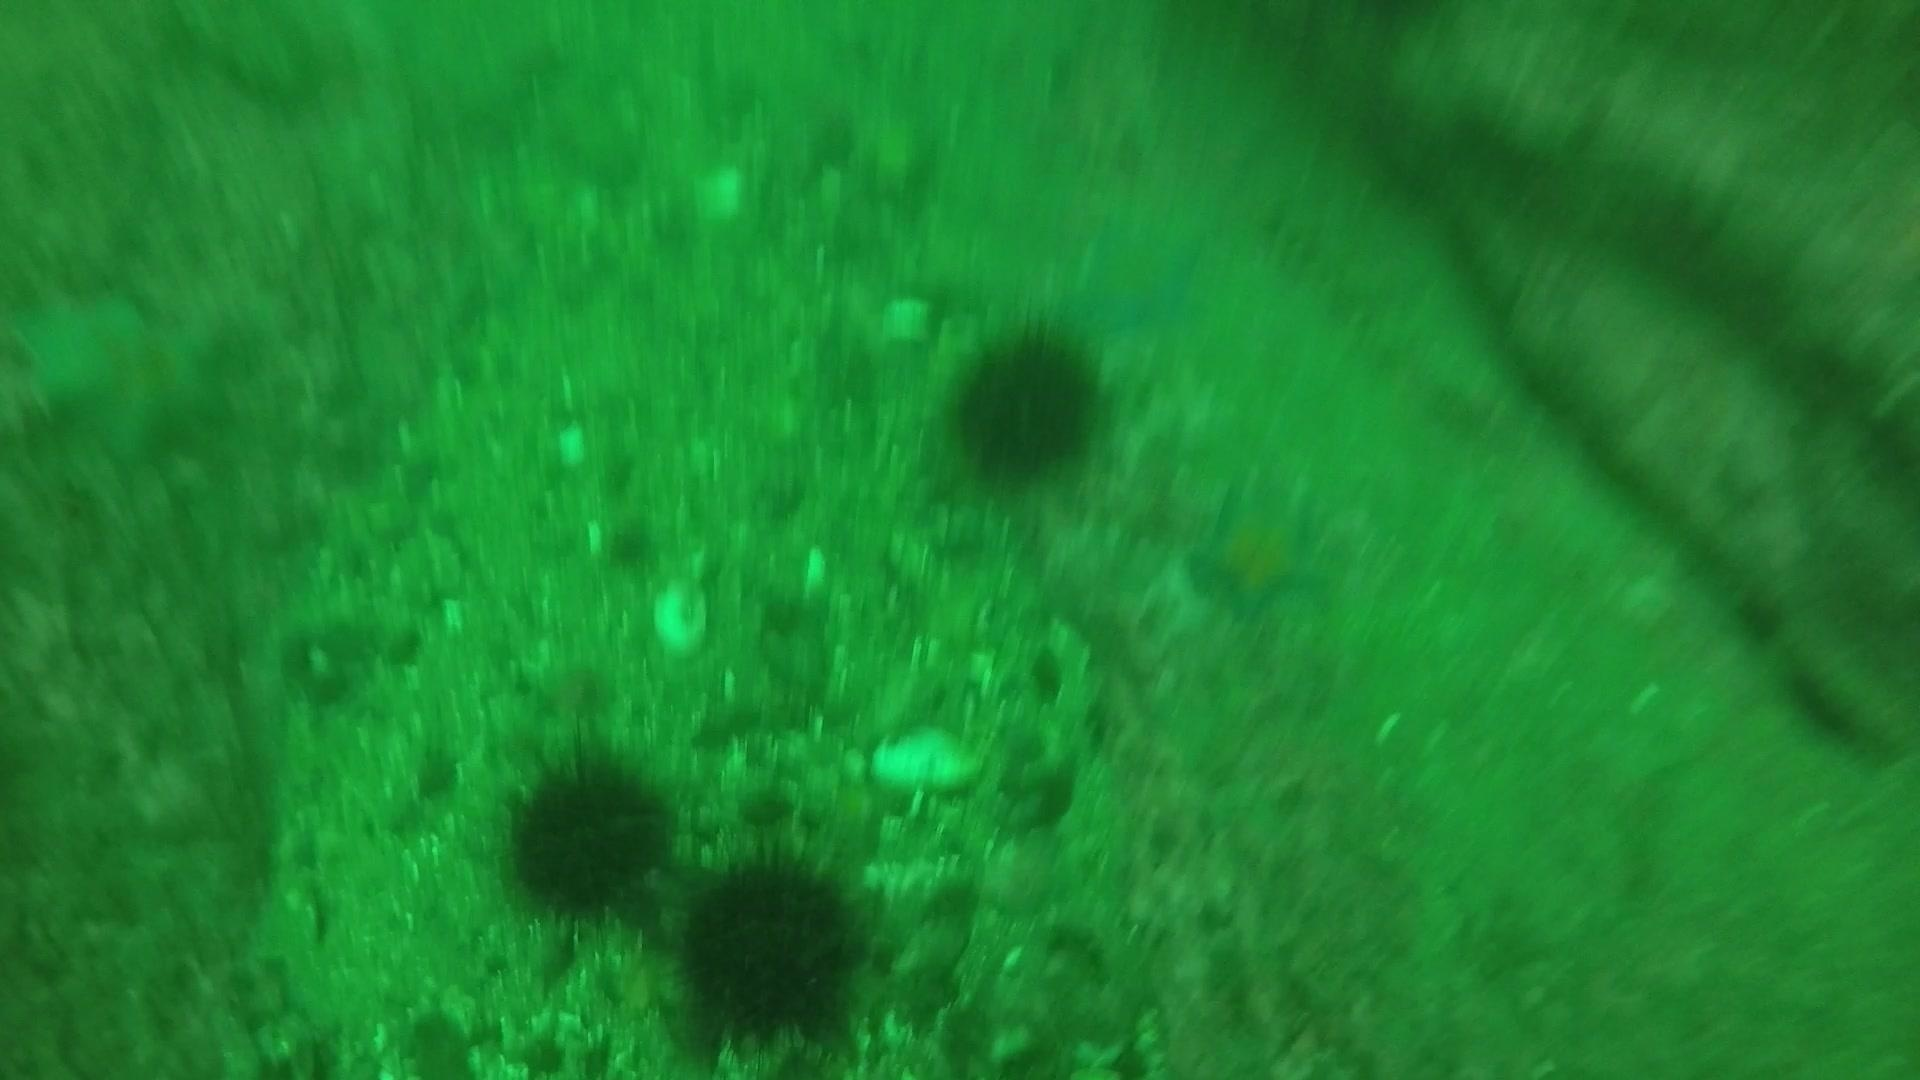echinus: (655, 835, 880, 1063), (493, 737, 683, 924), (940, 318, 1112, 487)
starfish: (9, 276, 245, 471), (1179, 475, 1335, 626), (1062, 208, 1213, 342)
